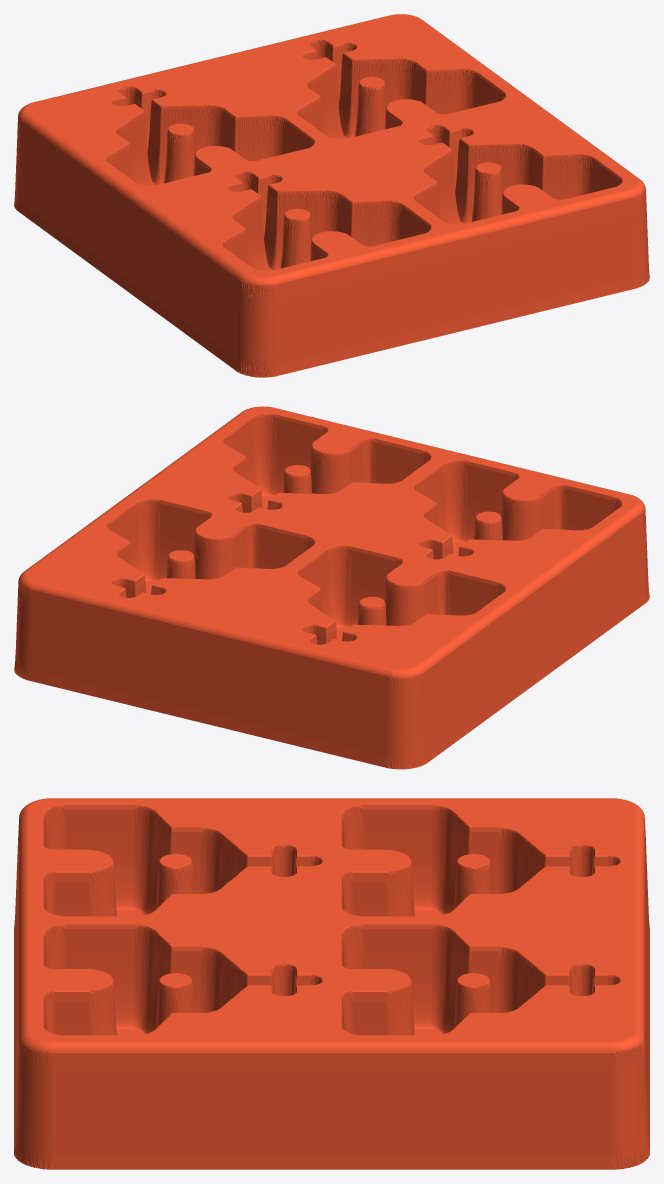
Rendered from mold.glb.
3 views of the same model, one above another, from view 1: azimuth 30°, elevation 25°; view 2: azimuth 150°, elevation 25°; view 3: azimuth 270°, elevation 25° (orthographic). The views are drawn at different scales.
Parts seen in each view (by area): view 1: geometry_0; view 2: geometry_0; view 3: geometry_0.
Part boxes in pixels (box(x1,y1,x2,y2)): geometry_0: box(14, 14, 649, 377); geometry_0: box(14, 406, 649, 769); geometry_0: box(14, 798, 649, 1169).
Bounding box in the file's own units: 0.1393 × 0.031 × 0.1466.
